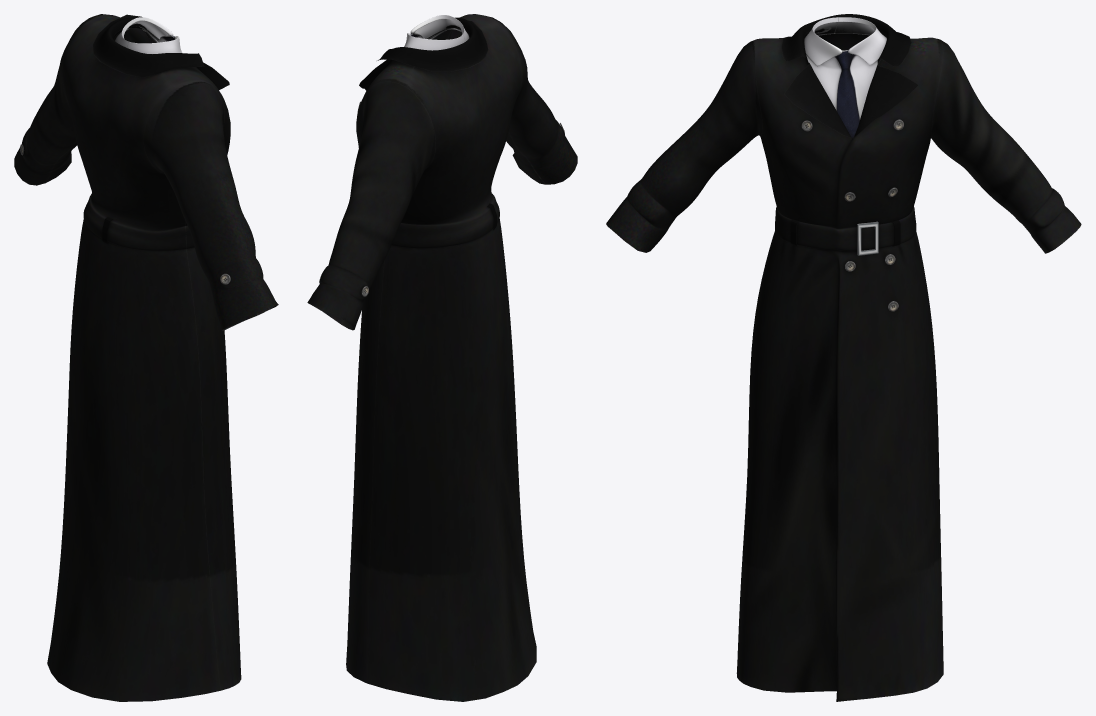
Rendered from 2_mens-full-length-trench-coat-shirt-tie-outfit.glb.
The picture shows the model from 3 angles, left to right: view 1: azimuth 30°, elevation 25°; view 2: azimuth 150°, elevation 25°; view 3: azimuth 270°, elevation 25°; orthographic projection.
Parts seen in each view (by area): view 1: TrencCoatOutfit; view 2: TrencCoatOutfit; view 3: TrencCoatOutfit.
Part boxes in pixels (x1,y1,x2,y2): TrencCoatOutfit: (14, 14, 278, 701); TrencCoatOutfit: (307, 14, 577, 701); TrencCoatOutfit: (606, 14, 1081, 701).
Bounding box in the file's own units: 0.4153 × 1.57 × 1.05.
1 material, 1 textured.
